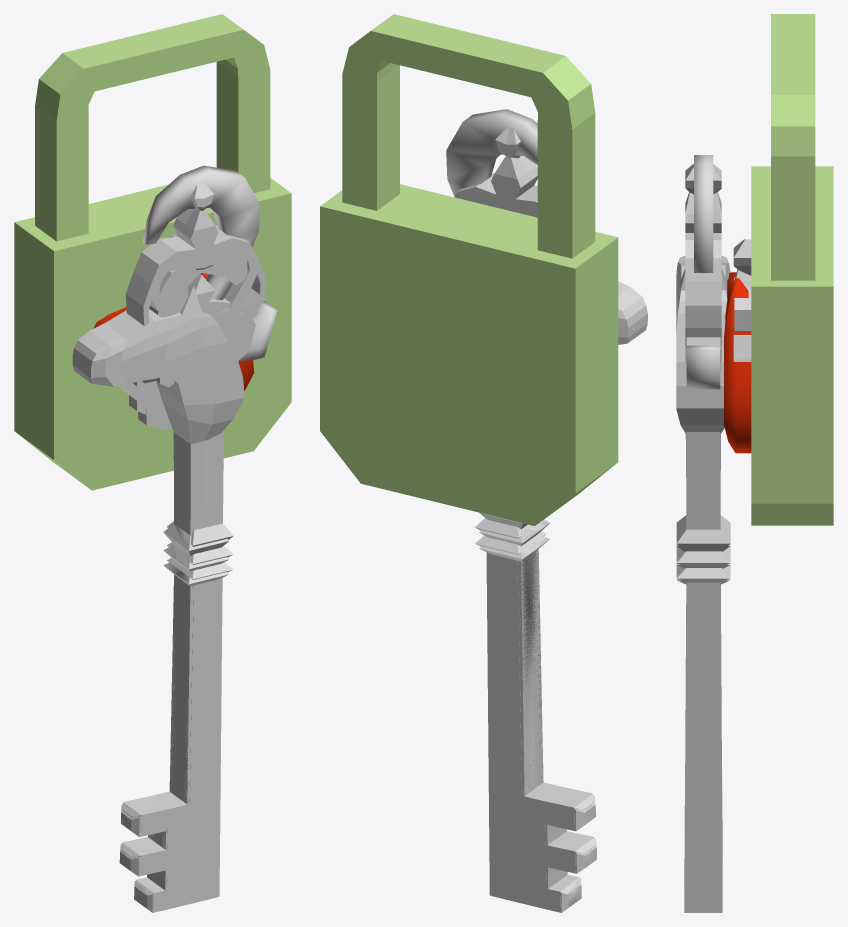
The model's file is 2Key.fbx.
The picture shows the model from 3 angles, left to right: view 1: azimuth 30°, elevation 25°; view 2: azimuth 150°, elevation 25°; view 3: azimuth 270°, elevation 25°; orthographic projection. The views are drawn at different scales.
Visible parts, largest first — view 1: lock, S key, horse key, crown key, 2Key, basic key, crown; view 2: lock, S key, 2Key, basic key, crown key, horse key; view 3: lock, S key, crown key, horse key, 2Key, horse head, crown, S shape.
Part boxes in pixels (x1=…): lock: x1=14, y1=14, x2=291, y2=490; S key: x1=121, y1=253, x2=255, y2=911; horse key: x1=72, y1=284, x2=244, y2=904; crown key: x1=119, y1=182, x2=265, y2=912; 2Key: x1=120, y1=165, x2=277, y2=905; basic key: x1=120, y1=524, x2=190, y2=908; crown: x1=119, y1=234, x2=176, y2=429; lock: x1=320, y1=14, x2=618, y2=525; S key: x1=475, y1=518, x2=595, y2=911; 2Key: x1=446, y1=109, x2=595, y2=907; basic key: x1=479, y1=512, x2=596, y2=912; crown key: x1=454, y1=127, x2=596, y2=903; horse key: x1=524, y1=281, x2=647, y2=898; lock: x1=751, y1=14, x2=833, y2=525; S key: x1=676, y1=337, x2=730, y2=912; crown key: x1=677, y1=164, x2=729, y2=584; horse key: x1=676, y1=256, x2=730, y2=581; 2Key: x1=677, y1=155, x2=729, y2=580; horse head: x1=724, y1=272, x2=751, y2=453; crown: x1=733, y1=239, x2=751, y2=361; S shape: x1=734, y1=277, x2=751, y2=330.
Size of the model in its own units: 132 by 437 by 73.2.
